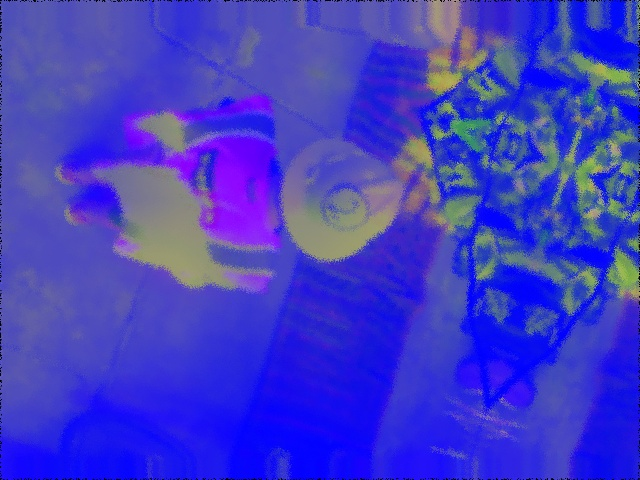two: (316, 179, 375, 239)
